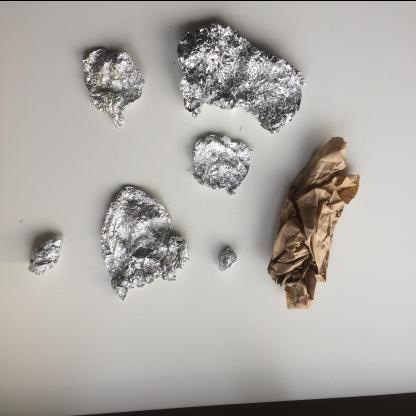kagit: (266, 136, 361, 310)
metal: (174, 19, 306, 133), (100, 182, 190, 301), (82, 46, 146, 128), (191, 132, 252, 195), (28, 236, 64, 274), (215, 244, 239, 272)
